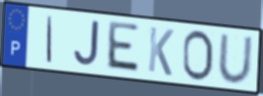E: (104, 19, 141, 76)
I: (45, 14, 55, 65)
J: (72, 20, 101, 69)
K: (146, 25, 176, 79)
O: (181, 28, 215, 83)
U: (216, 33, 254, 86)
